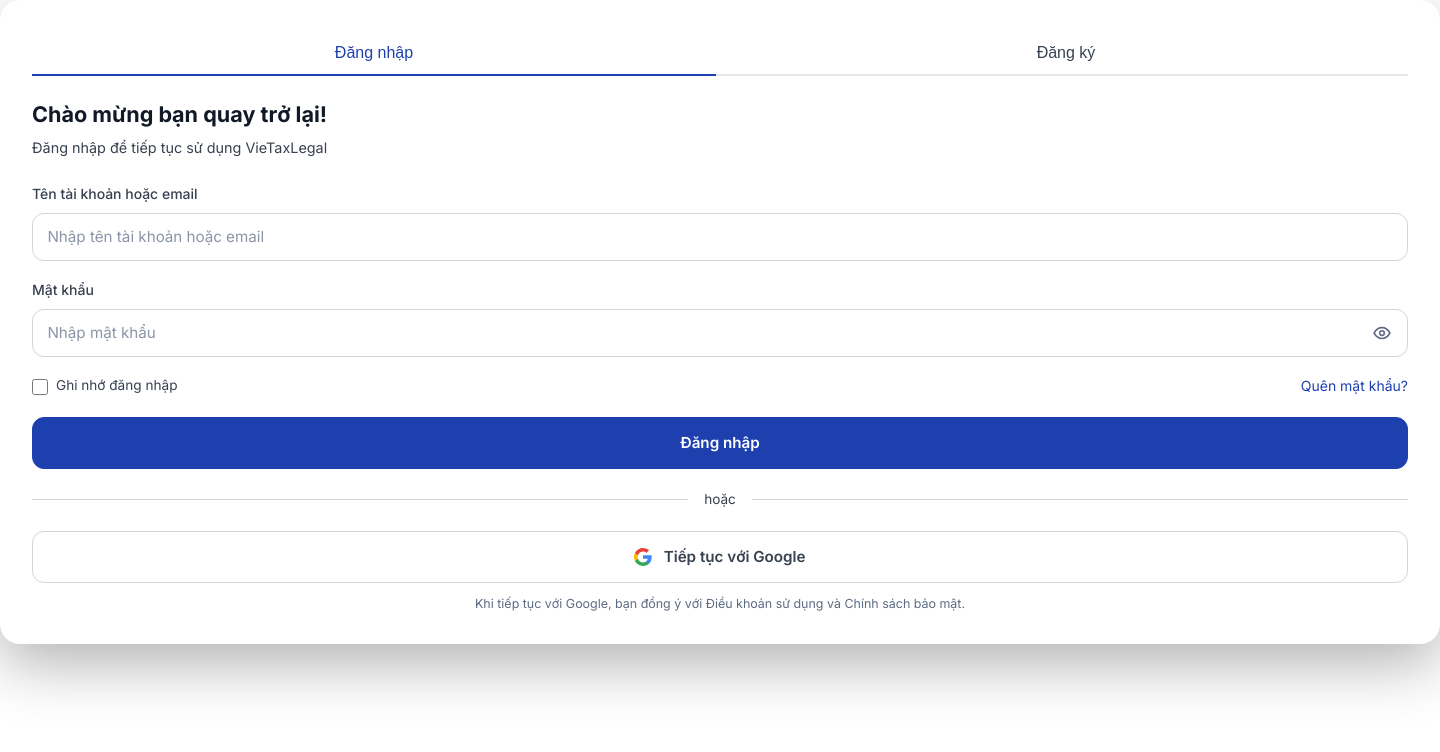
Test case: AuthCard email verification at sign-up › requests a code for the lower-cased email and then asks for it
Click the tab "Đăng ký". click: (1066, 54)
box: [724,32,1408,76]
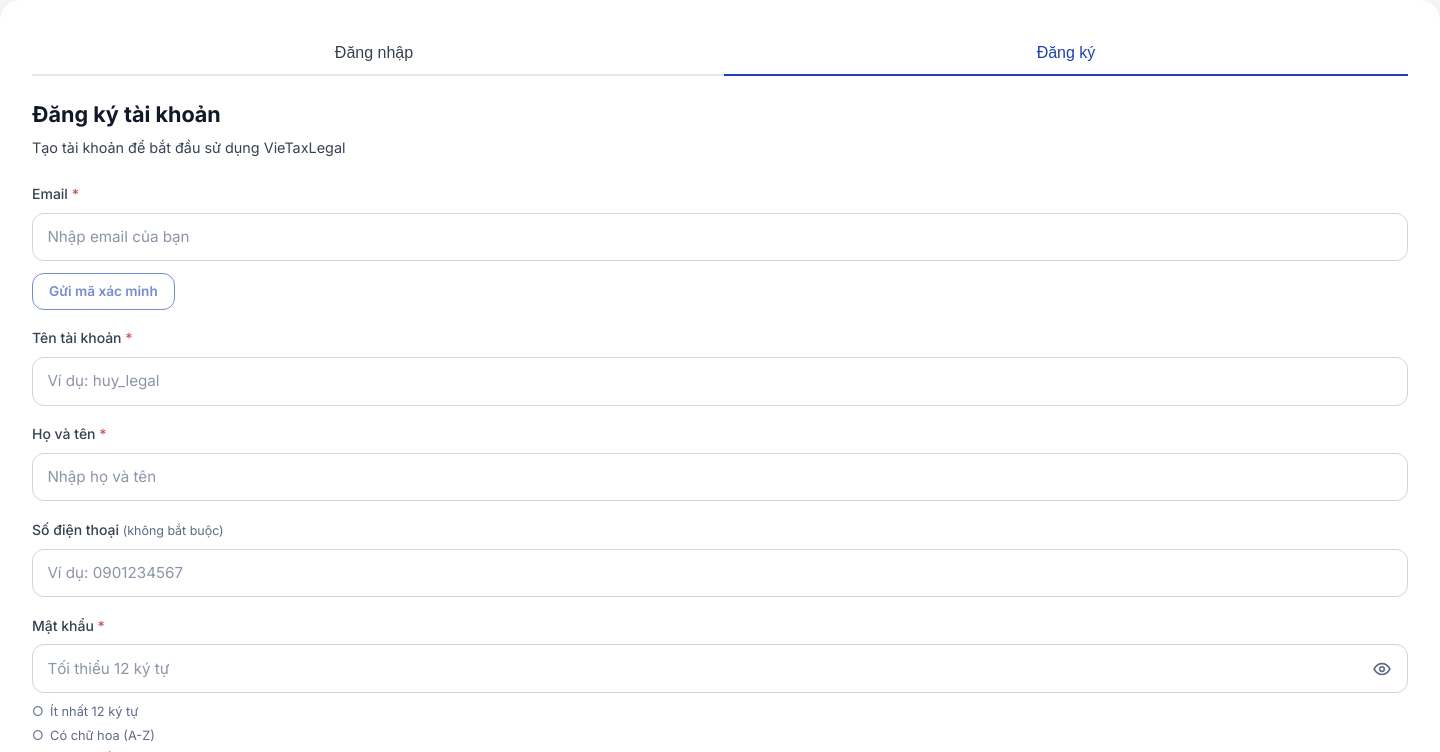
Type "Huy@Example.com" into the field labelled "Email *". click: (720, 237)
box: [32,213,1408,261]
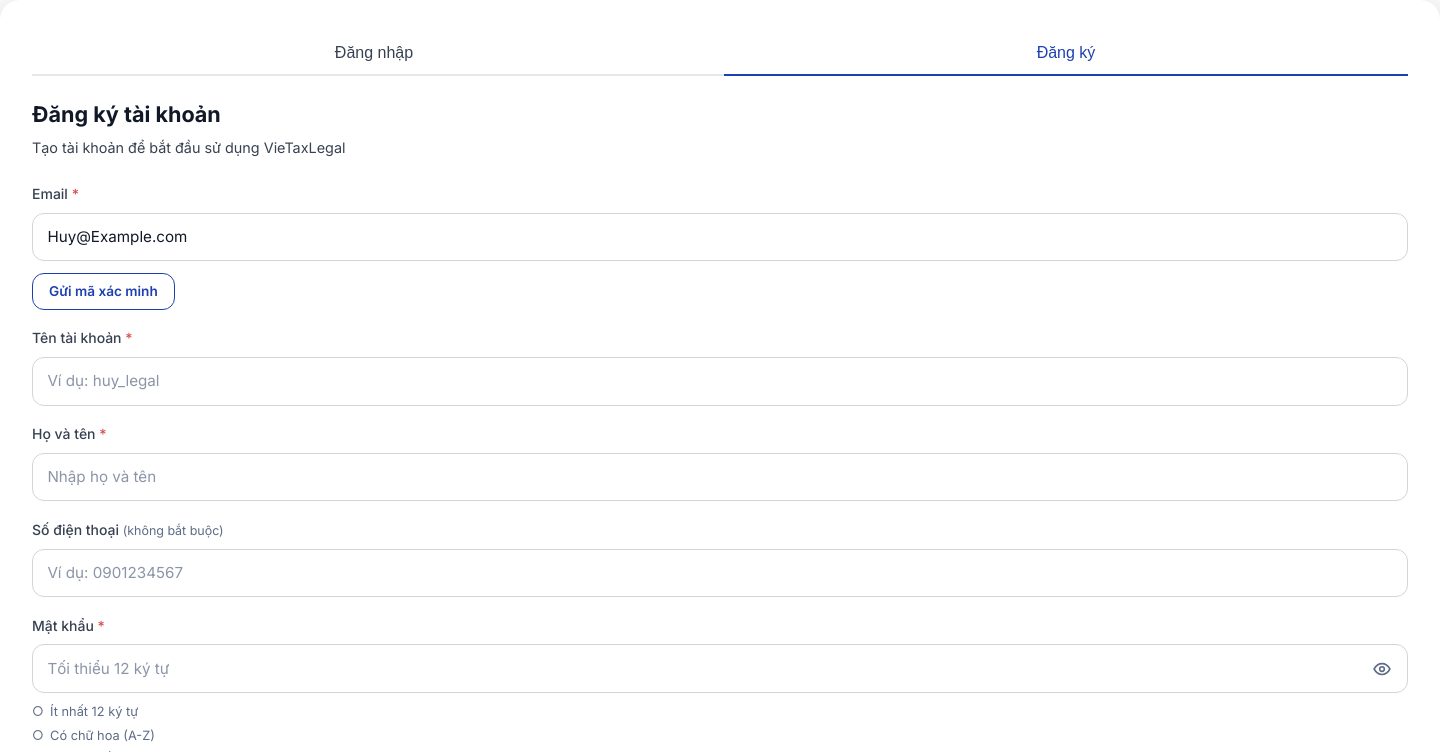
Click the button "Gửi mã xác minh". click: (103, 291)
box: [32,273,175,310]
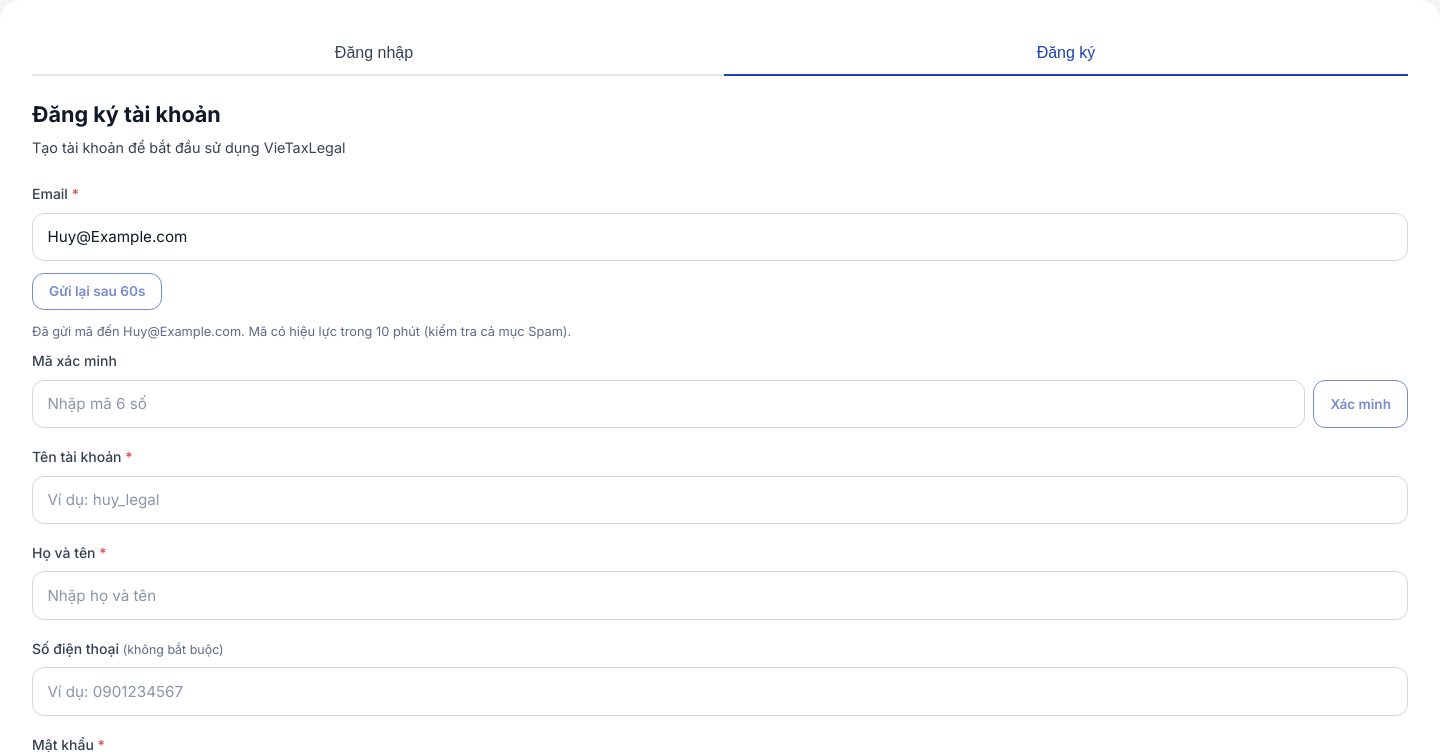
Expected: the field labelled "Mã xác minh" is shown, [32,380,1305,428]
